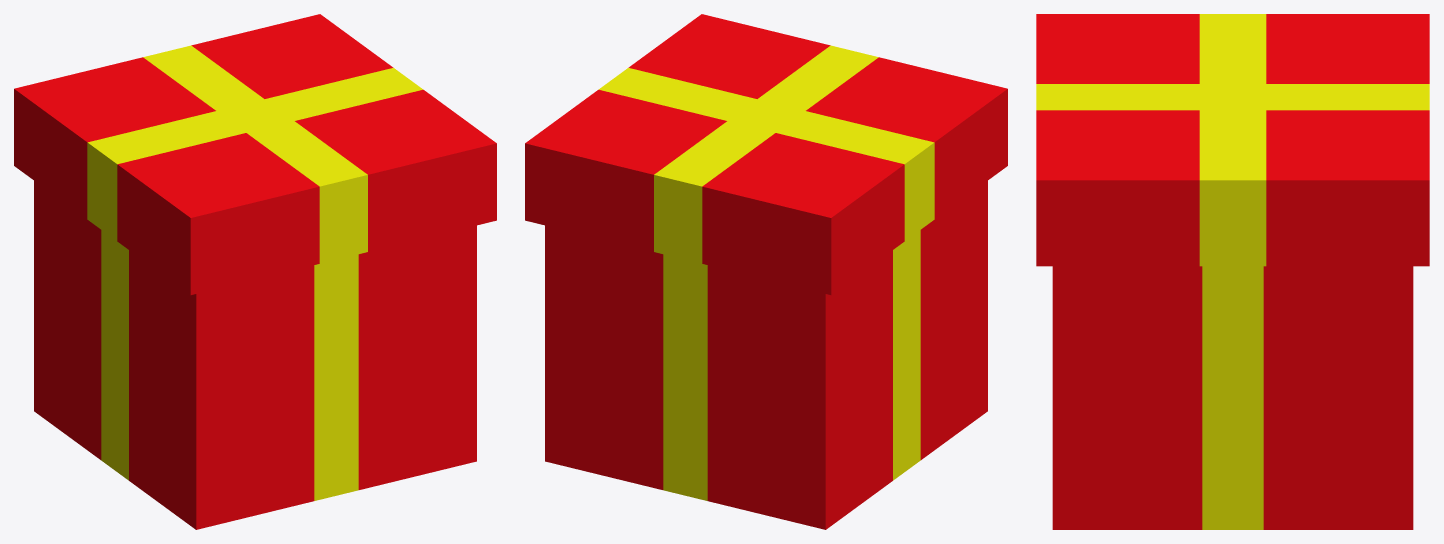
Rendered from Package Model.fbx.
The picture shows the model from 3 angles, left to right: view 1: azimuth 30°, elevation 25°; view 2: azimuth 150°, elevation 25°; view 3: azimuth 270°, elevation 25°; orthographic projection. The views are drawn at different scales.
Visible parts, largest first — view 1: Cube; view 2: Cube; view 3: Cube.
Part boxes in pixels (box(x1,y1,x2,y2)): Cube: box(14, 14, 496, 529); Cube: box(525, 14, 1007, 529); Cube: box(1036, 14, 1429, 529).
Bounding box in the file's own units: 200 × 200 × 200.
Materials: 1 (1 with a texture image).
